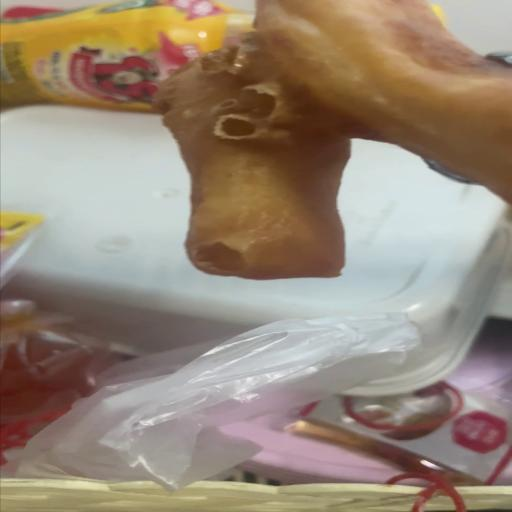street_burnt_defect: (154, 0, 512, 279)
